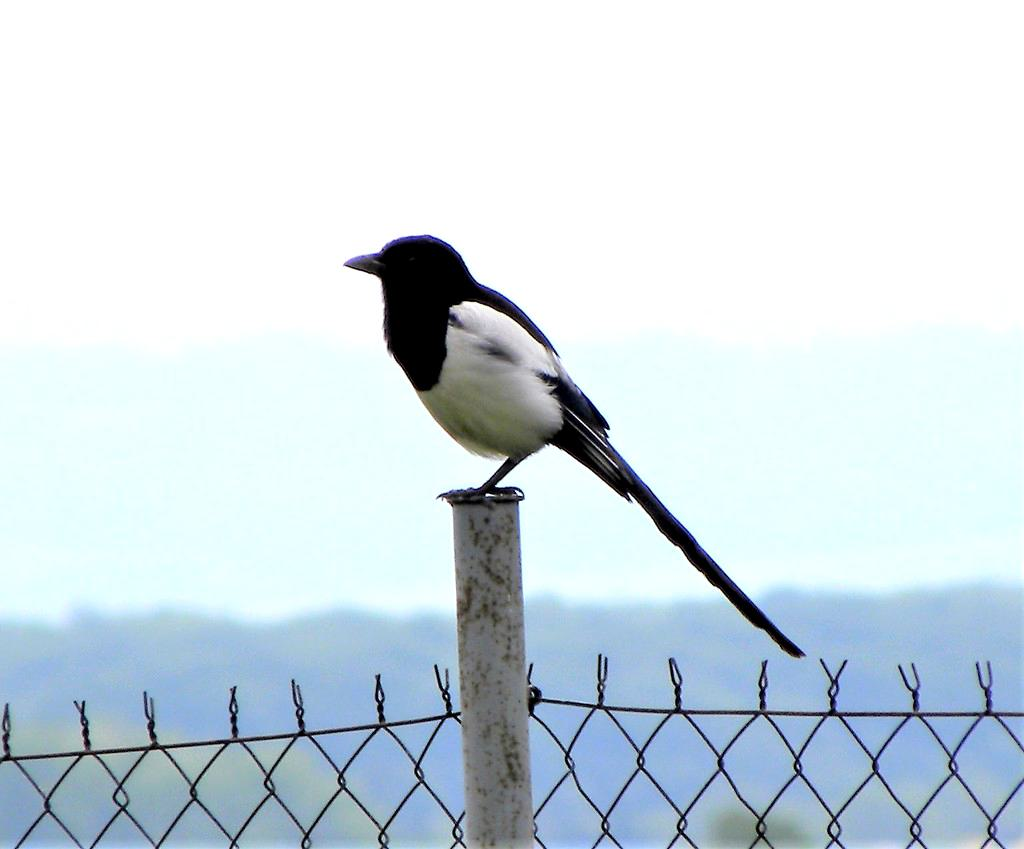PicaPica: (342, 233, 806, 659)
